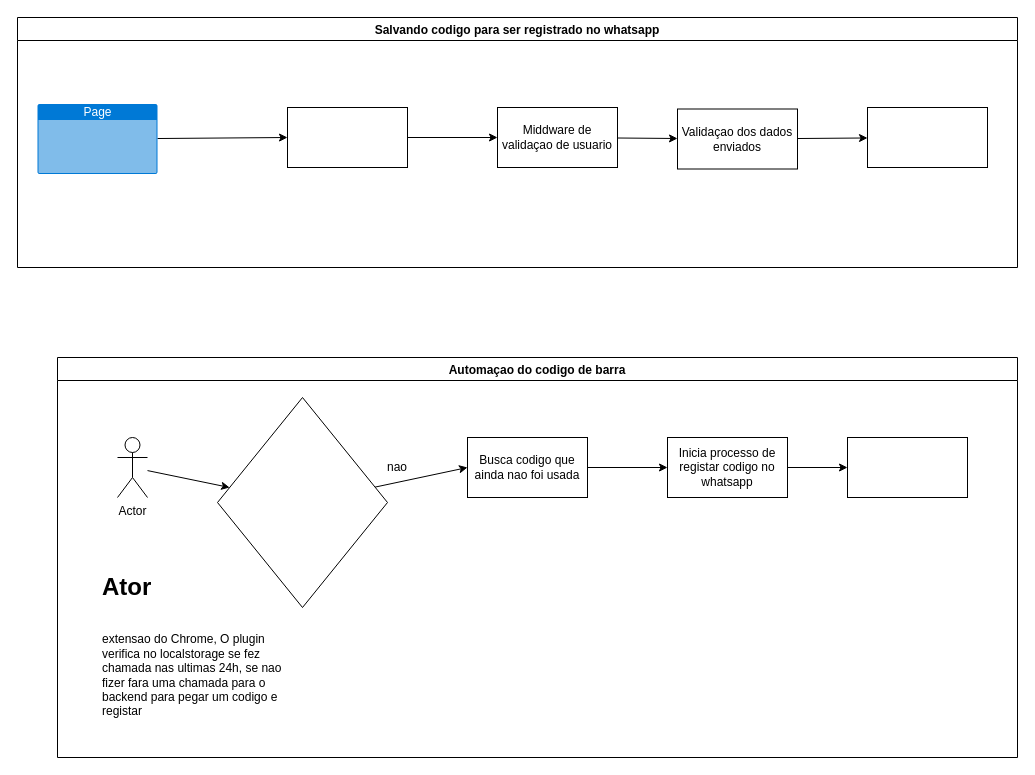
This 1035x775 diagram has some shape labels left out. Here are the shapes that lost their labels. From the top down, the centre of each, then its label:
the point at 347,137: /registrar codigo
the point at 927,137: Salva dados
the point at 907,467: deleçao logica do codigo no banco de dados
the point at 302,502: Verifica se usuario fez dois registros na ultimas 24h?
